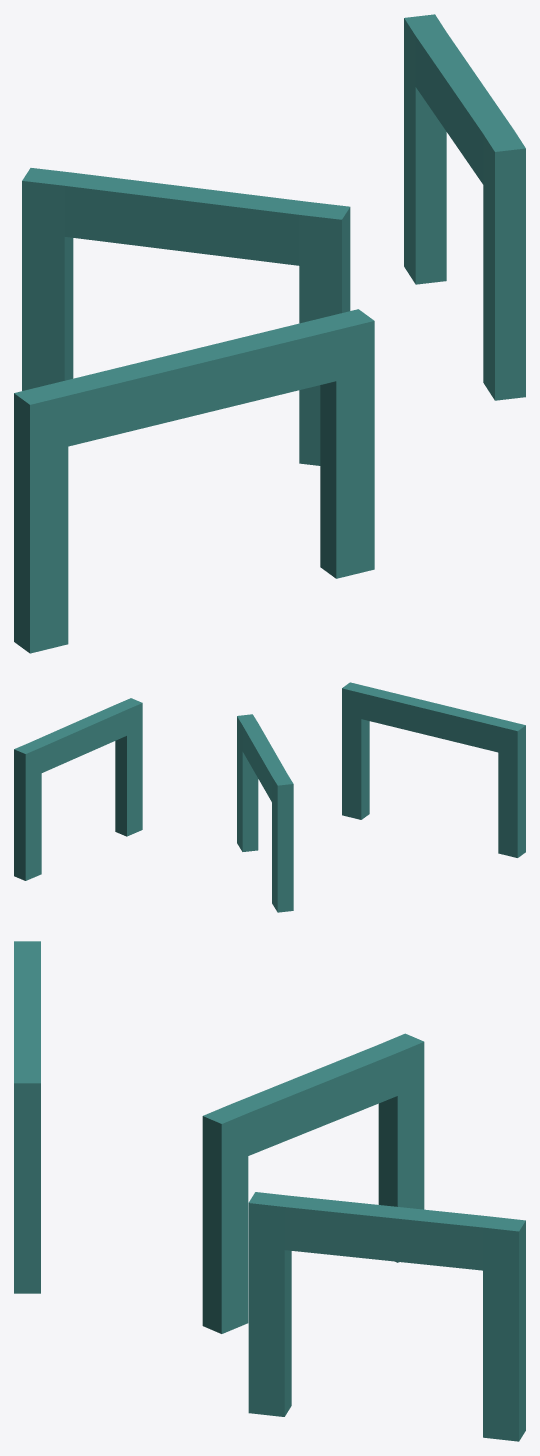
The model's file is WeirdWalls.fbx.
3 views of the same model, one above another, from view 1: azimuth 30°, elevation 25°; view 2: azimuth 150°, elevation 25°; view 3: azimuth 270°, elevation 25° (orthographic). The views are drawn at different scales.
Parts seen in each view (by area): view 1: Cube.010, Cube.011, Cube.012; view 2: Cube.010, Cube.012, Cube.011; view 3: Cube.012, Cube.011, Cube.010.
Boxes of the visible parts, x1=… form: Cube.010: x1=14, y1=309, x2=374, y2=653; Cube.011: x1=22, y1=168, x2=350, y2=465; Cube.012: x1=404, y1=14, x2=525, y2=400; Cube.010: x1=342, y1=682, x2=525, y2=857; Cube.012: x1=14, y1=698, x2=142, y2=880; Cube.011: x1=237, y1=714, x2=293, y2=912; Cube.012: x1=248, y1=1192, x2=525, y2=1441; Cube.011: x1=202, y1=1033, x2=424, y2=1333; Cube.010: x1=14, y1=941, x2=40, y2=1293.
Size of the model in its own units: 1471 by 497 by 1097.
